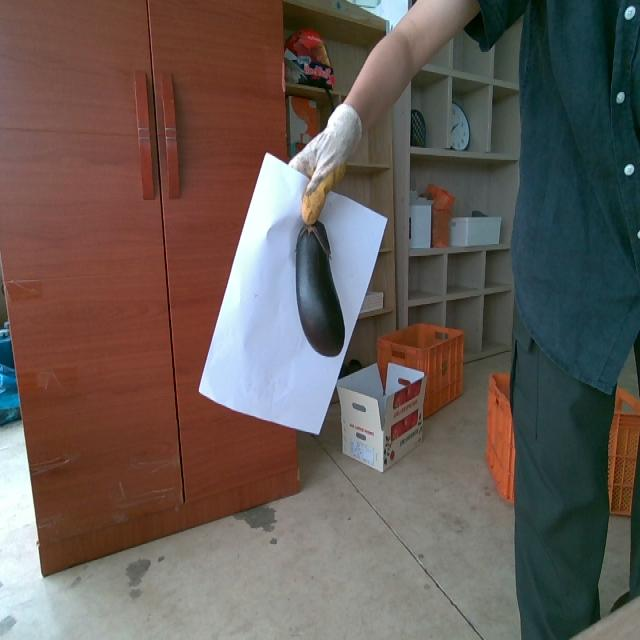Egg plant: (296, 221, 344, 356)
